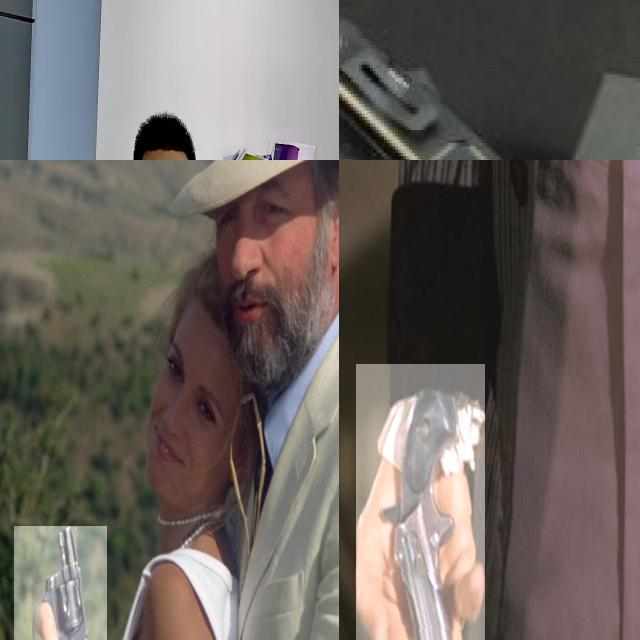gun-knife-thesis - v11 Yolov5 augmented: (355, 364, 485, 640), (13, 525, 107, 640)
